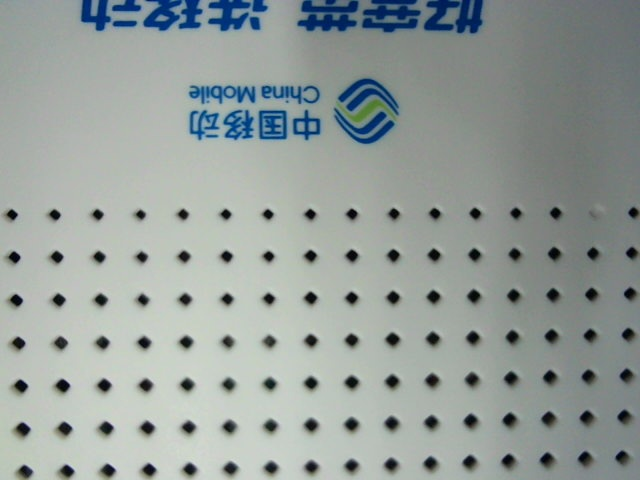AA_ChinaMobile: (76, 4, 485, 157)
